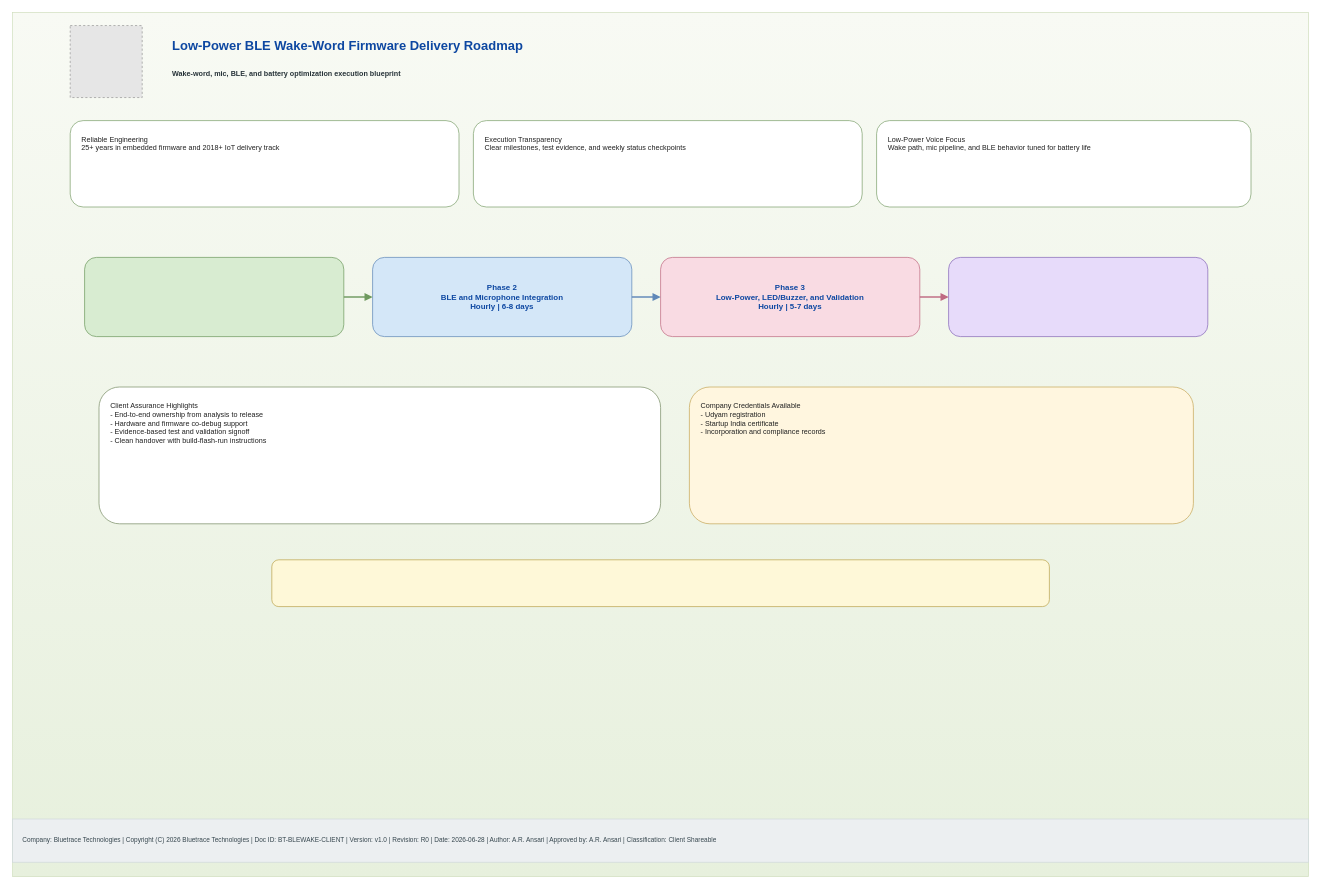
The diagram is 1321 pixels wide and 889 high, and some of its shapes have lost their labels. Grey dashed boxes stand in for pictures. Here are the shapes that lost their labels. From the top down, the box of each, then its label:
(84, 257, 344, 337): Phase 1 Wake-Word Pipeline and Firmware Planning Hourly | 3-4 days
(948, 257, 1208, 337): Phase 4 Stabilization and Handover Hourly | 2-3 days
(271, 559, 1049, 607): Estimated Overall Timeline: 3 to 4 weeks
